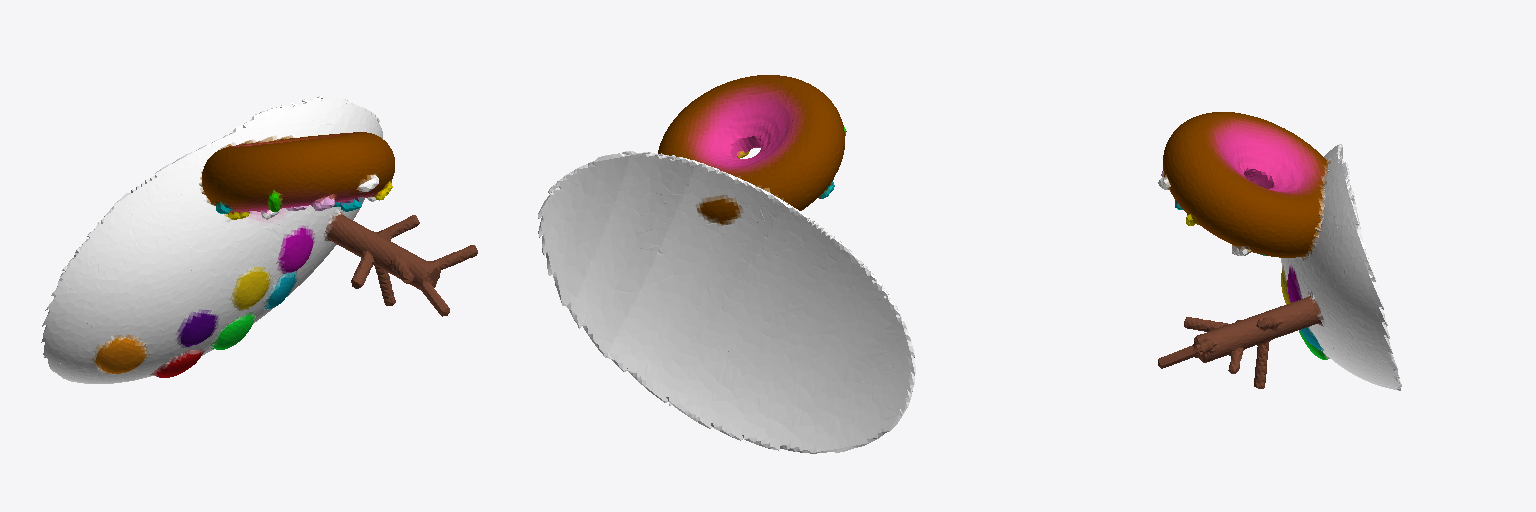
3 views of the same model, side by side, from view 1: azimuth 30°, elevation 25°; view 2: azimuth 150°, elevation 25°; view 3: azimuth 270°, elevation 25° (orthographic).
Visible parts, largest first — view 1: Layer_1; view 2: Layer_1; view 3: Layer_1.
Boxes of the visible parts, <box> form: Layer_1: <box>41,96,477,383</box>; Layer_1: <box>538,75,915,453</box>; Layer_1: <box>1158,112,1401,390</box>.
Size of the model in its own units: 0.815 by 0.601 by 0.4771.
Materials: 1 (1 with a texture image).